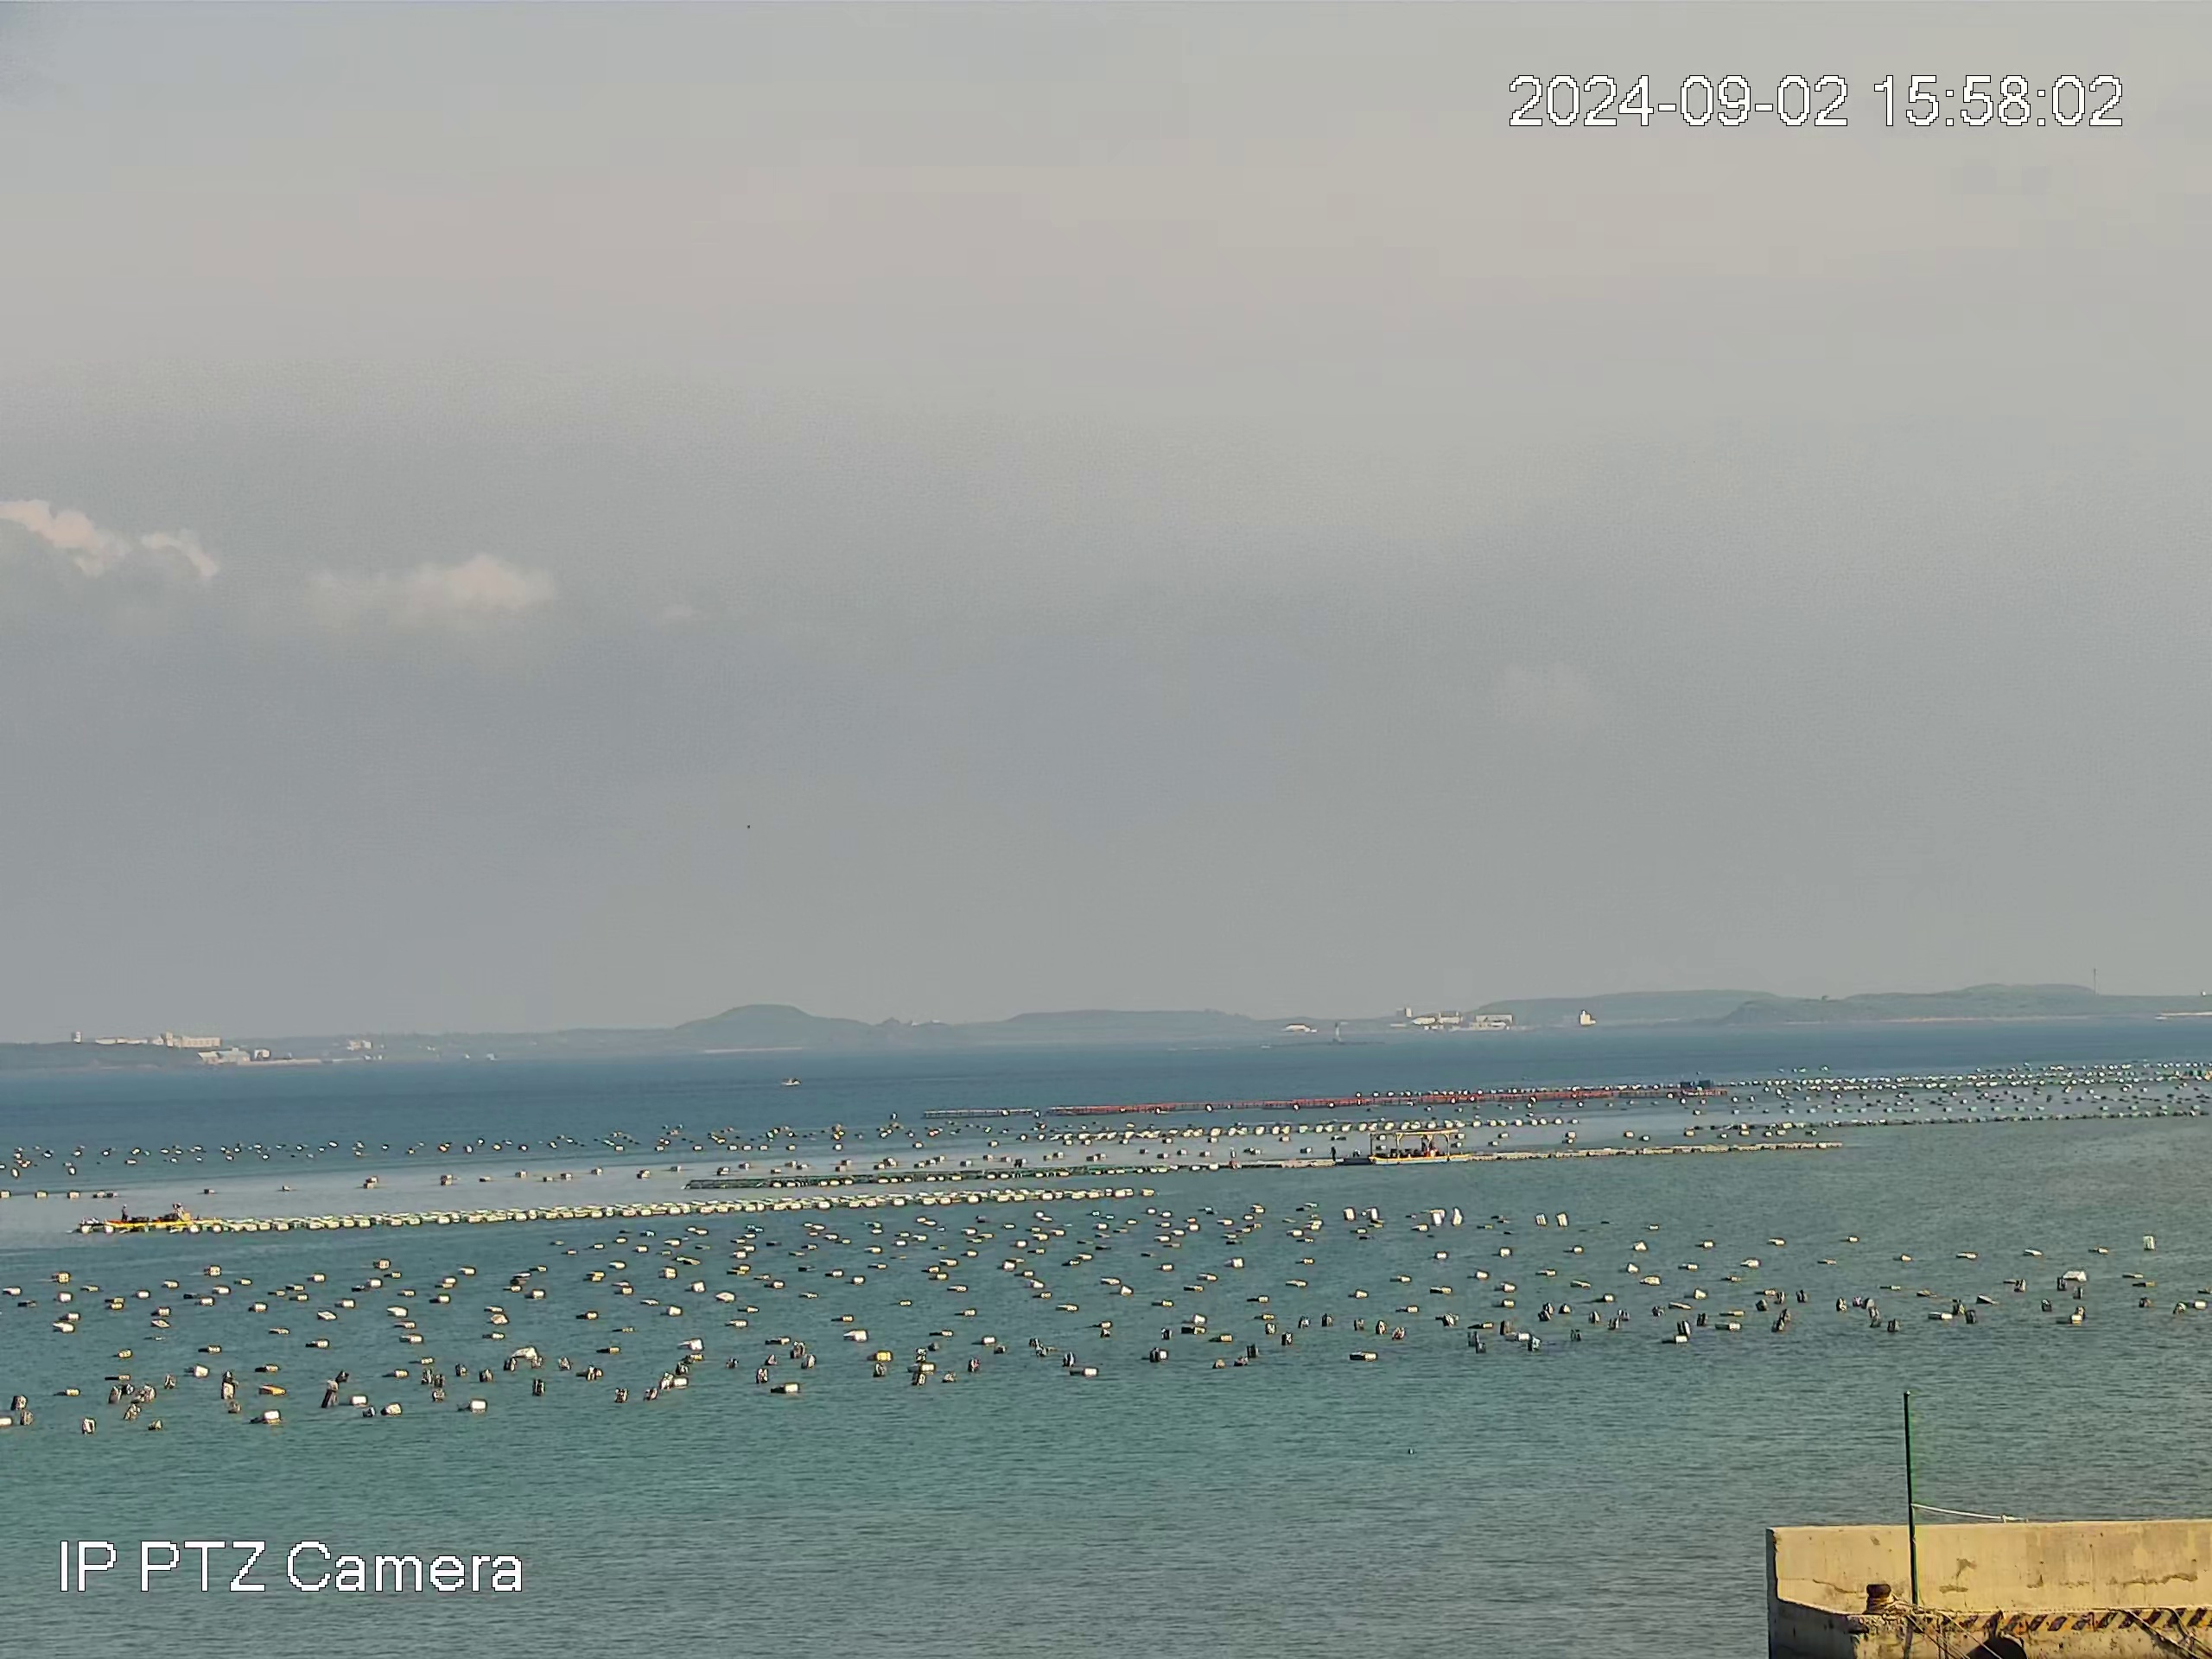boat: (1366, 1127, 1472, 1166), (103, 1202, 225, 1225), (779, 1075, 801, 1087)
